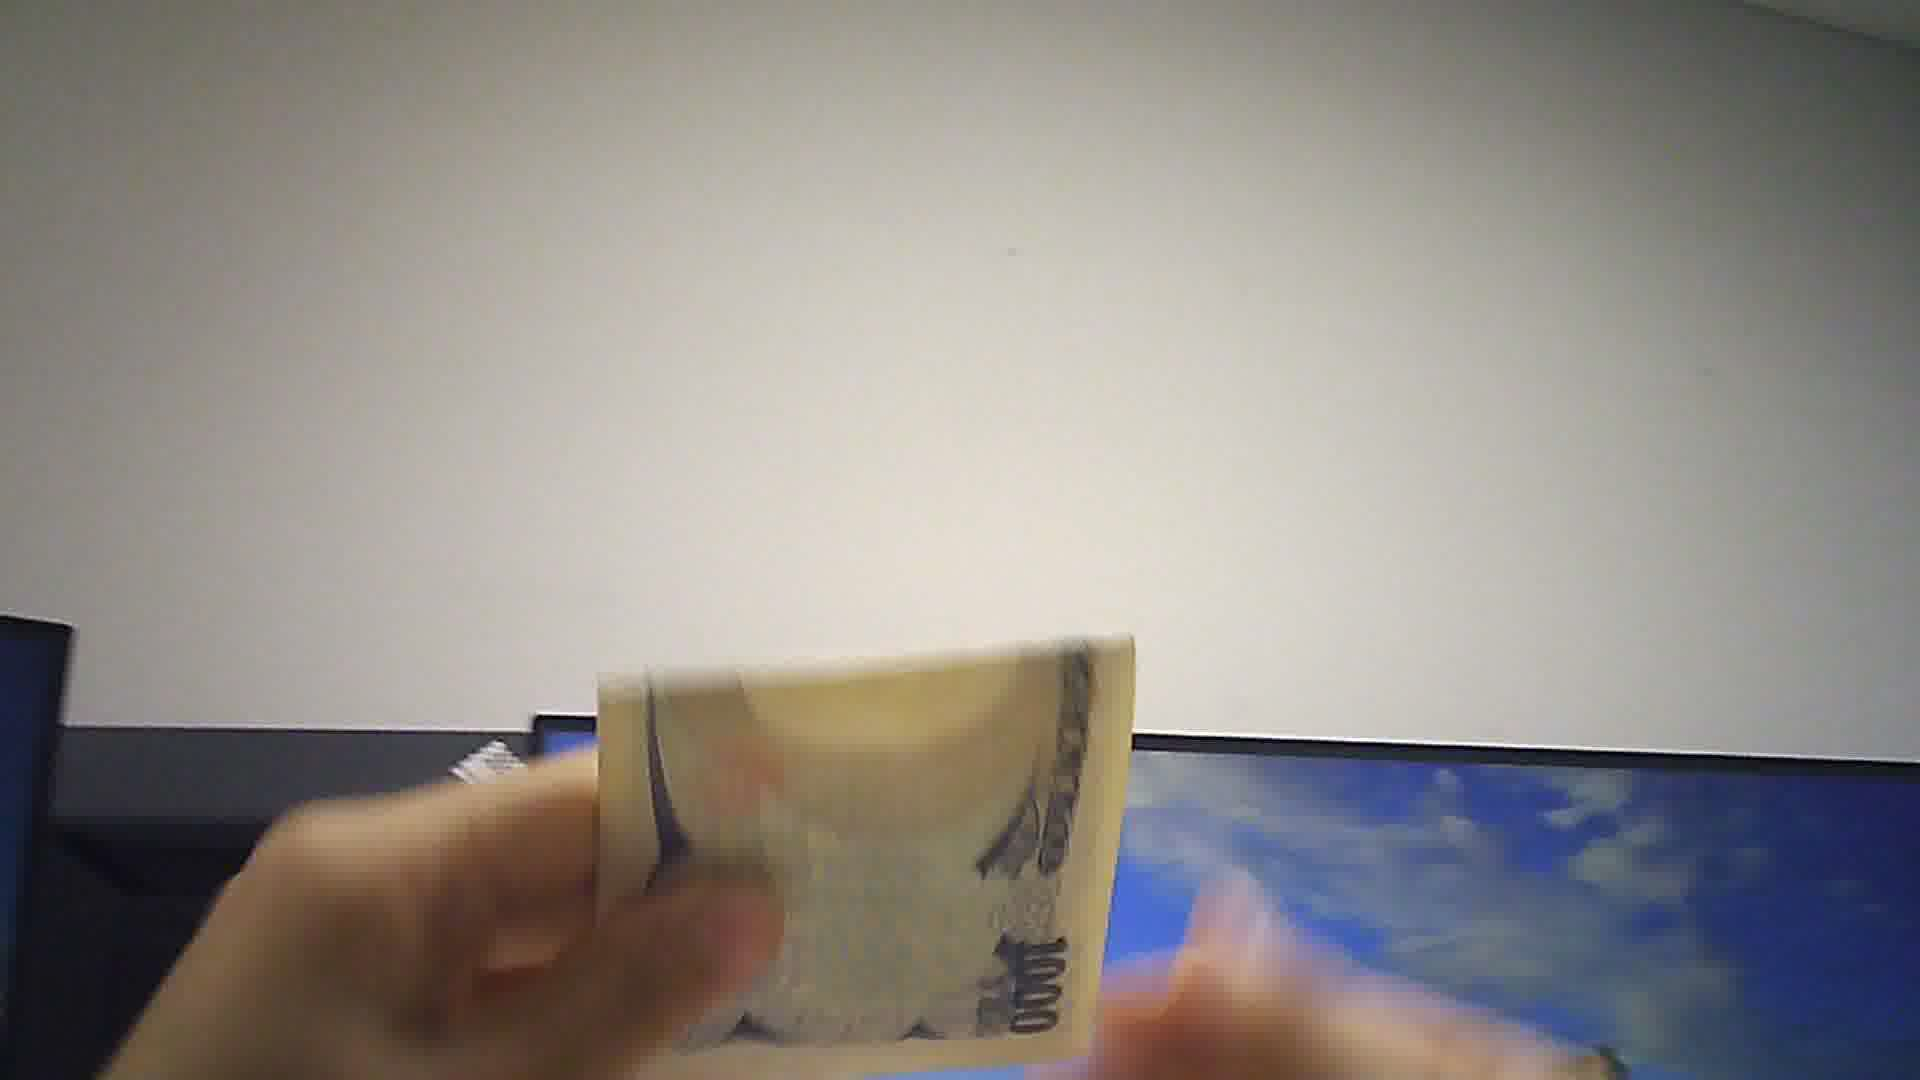1,000 Yen: (593, 629, 1105, 1077)
